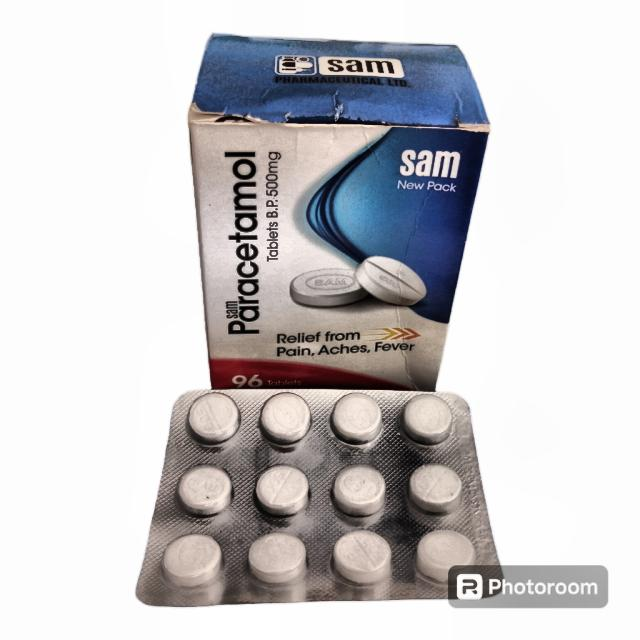Paracetamol: (212, 141, 278, 350)
